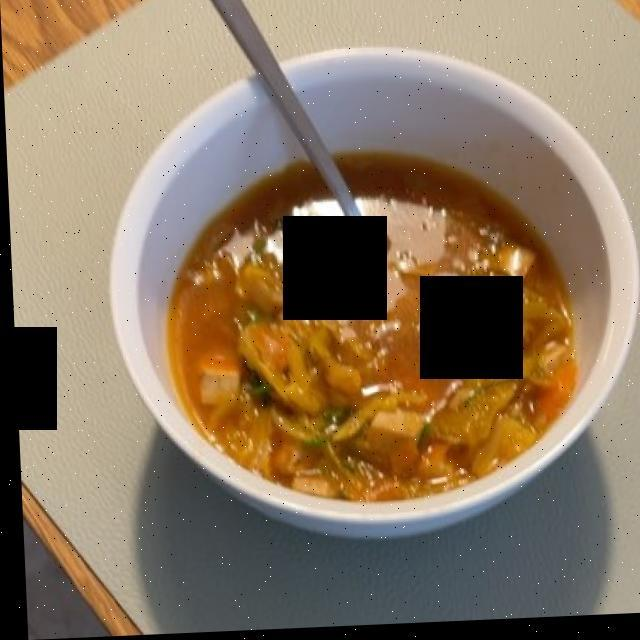bouillon: (185, 164, 562, 491)
